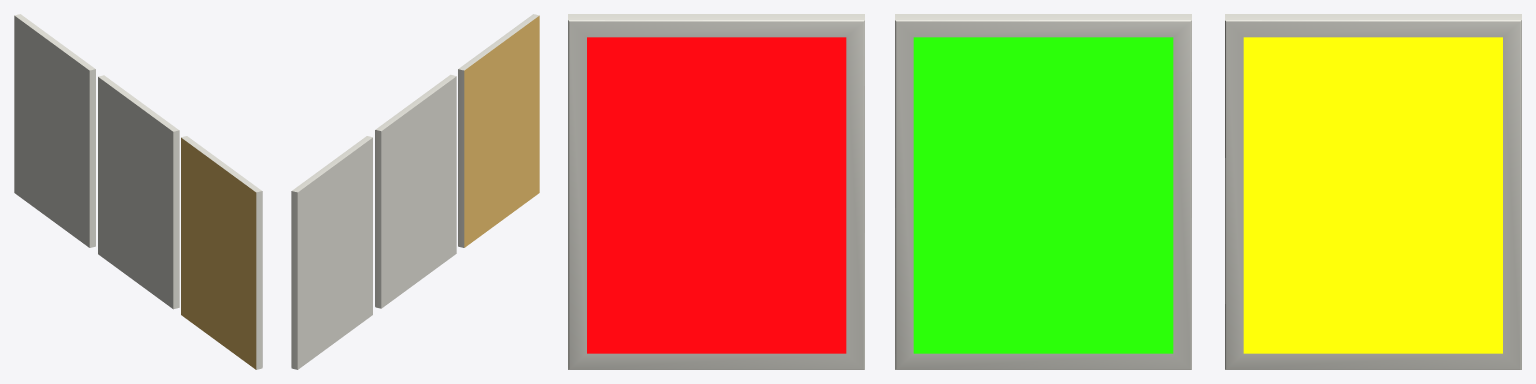
Rendered from LivingRoomPaitings.fbx.
3 views of the same model, side by side, from view 1: azimuth 30°, elevation 25°; view 2: azimuth 150°, elevation 25°; view 3: azimuth 270°, elevation 25° (orthographic). The views are drawn at different scales.
Parts seen in each view (by area): view 1: picturesLivingRoom.001, picturesLivingRoom.002; view 2: picturesLivingRoom.001, picturesLivingRoom.002; view 3: picturesLivingRoom.001, picturesLivingRoom.002.
Part boxes in pixels (bbox=[...]): picturesLivingRoom.001: bbox=[14, 14, 179, 309]; picturesLivingRoom.002: bbox=[181, 136, 262, 369]; picturesLivingRoom.001: bbox=[291, 74, 456, 369]; picturesLivingRoom.002: bbox=[458, 14, 539, 247]; picturesLivingRoom.001: bbox=[895, 14, 1521, 369]; picturesLivingRoom.002: bbox=[568, 14, 864, 369].
Bounding box in the file's own units: 3.89 × 96.54 × 238.
